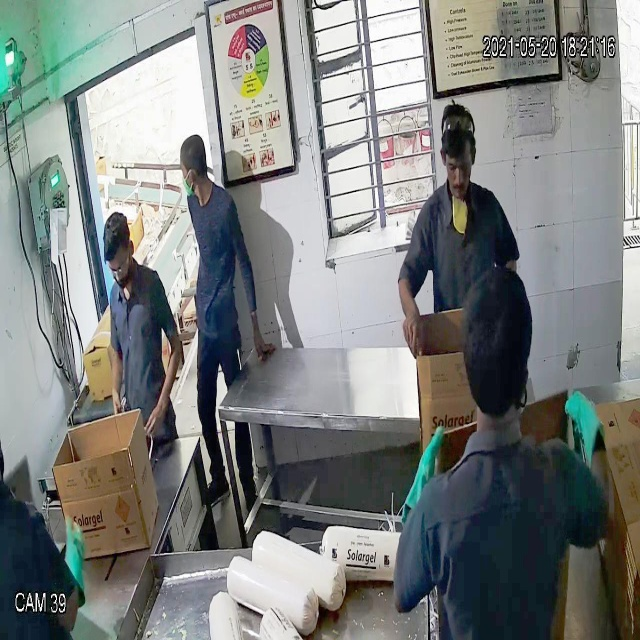Sin_gafas: (441, 154, 477, 180)
